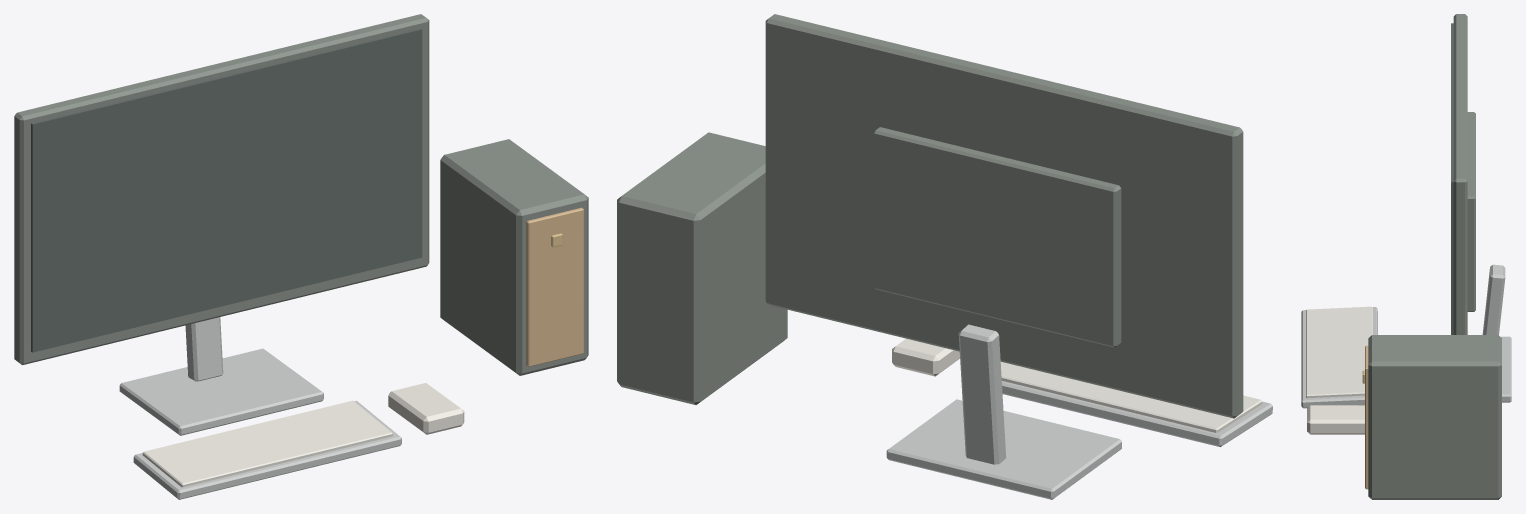
File: computer.glb
The picture shows the model from 3 angles, left to right: view 1: azimuth 30°, elevation 25°; view 2: azimuth 150°, elevation 25°; view 3: azimuth 270°, elevation 25°; orthographic projection. The views are drawn at different scales.
Visible parts, largest first — view 1: computer_screen, computer_dark, computer_steel, computer_ivory, computer_oak; view 2: computer_dark, computer_steel, computer_ivory; view 3: computer_dark, computer_ivory, computer_steel, computer_screen, computer_oak.
Boxes of the visible parts, x1=… form: computer_screen: x1=31, y1=28, x2=422, y2=352; computer_dark: x1=14, y1=14, x2=588, y2=375; computer_steel: x1=119, y1=317, x2=401, y2=499; computer_ivory: x1=142, y1=383, x2=464, y2=487; computer_oak: x1=526, y1=207, x2=583, y2=366; computer_dark: x1=617, y1=14, x2=1243, y2=418; computer_steel: x1=886, y1=324, x2=1272, y2=499; computer_ivory: x1=892, y1=338, x2=1262, y2=432; computer_dark: x1=1368, y1=14, x2=1501, y2=499; computer_ivory: x1=1306, y1=306, x2=1372, y2=434; computer_steel: x1=1301, y1=264, x2=1511, y2=408; computer_screen: x1=1451, y1=23, x2=1453, y2=334; computer_oak: x1=1365, y1=345, x2=1368, y2=489.
Size of the model in its own units: 0.785 by 0.4809 by 0.3301.
